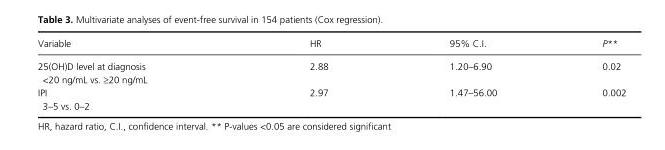table: (37, 37, 625, 111)
table column: (37, 37, 227, 111), (227, 37, 388, 111), (388, 37, 548, 111), (548, 37, 625, 111)
table column header: (37, 37, 625, 54)
table row: (37, 54, 625, 85), (37, 85, 625, 111), (37, 37, 625, 54)
